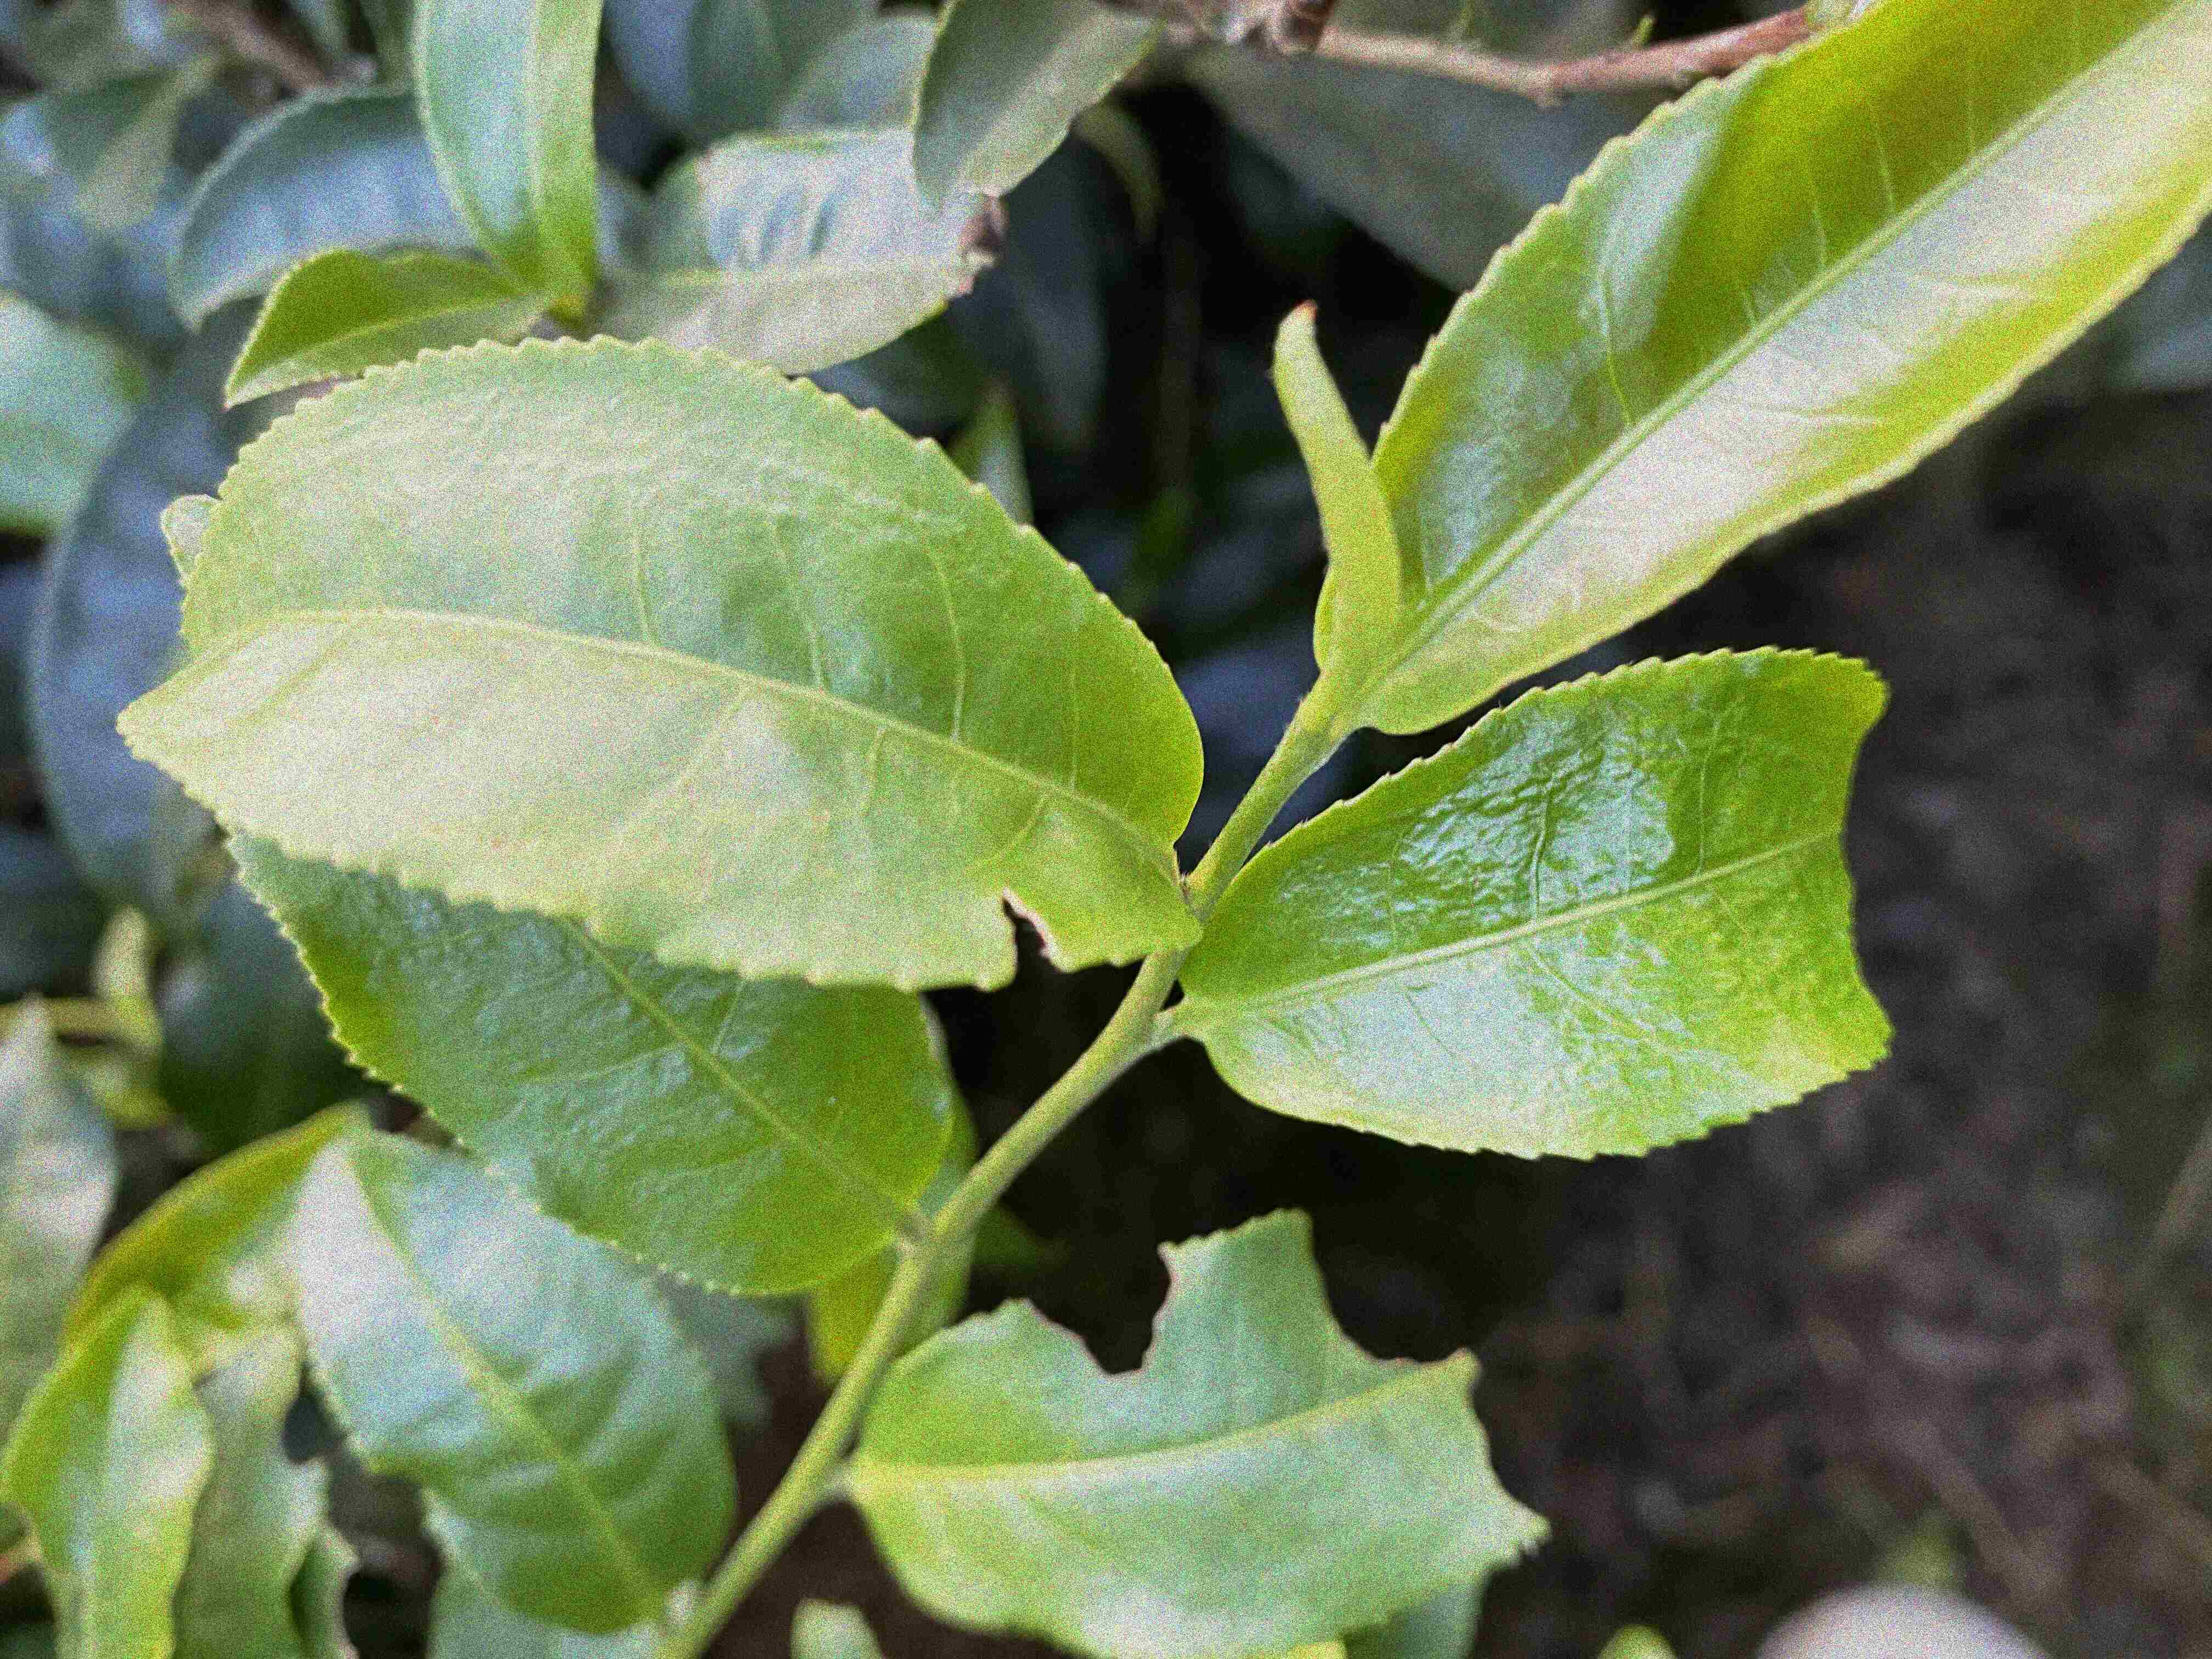chihuo_high: (850, 1206, 1552, 1656)
chihuo_low: (110, 331, 1211, 993), (1179, 643, 1897, 1161)
